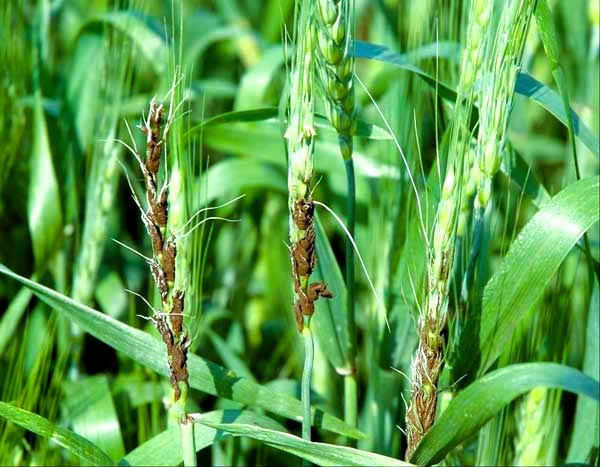Wheat Loose Smut: (136, 184, 196, 366)
